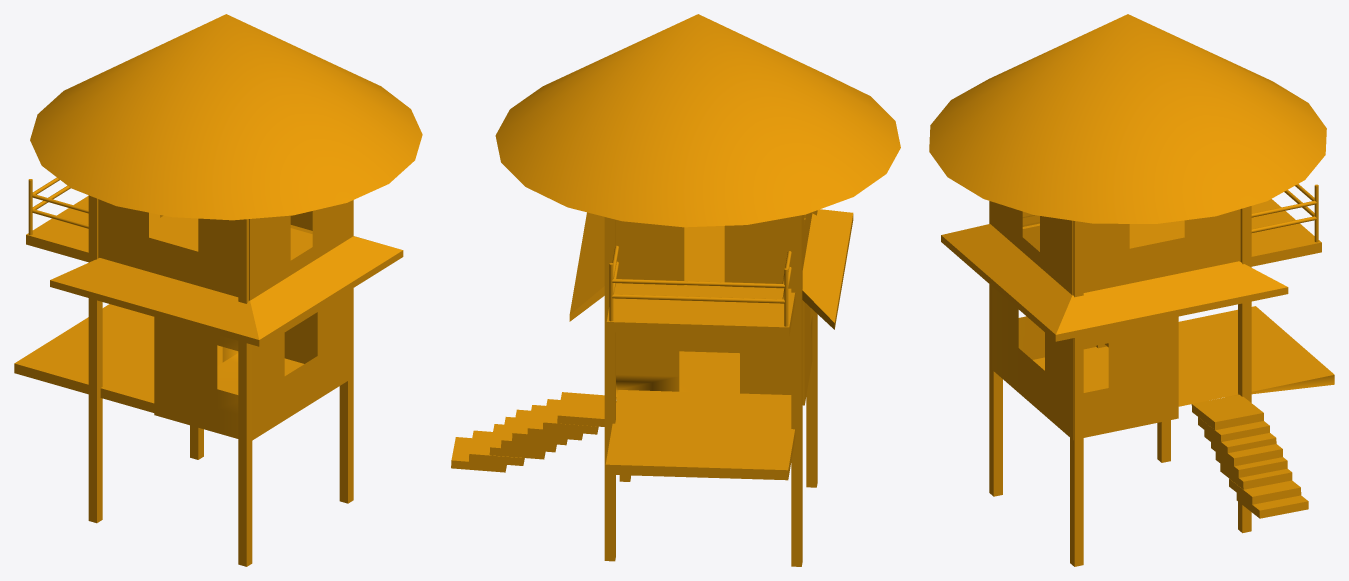
The model's file is shackie_shack04.fbx.
3 views of the same model, side by side, from view 1: azimuth 30°, elevation 25°; view 2: azimuth 150°, elevation 25°; view 3: azimuth 270°, elevation 25° (orthographic). The views are drawn at different scales.
Visible parts, largest first — view 1: pCube10; view 2: pCube10; view 3: pCube10.
Boxes of the visible parts, x1,y1,x2,y2 form: pCube10: (14, 14, 422, 566); pCube10: (451, 14, 900, 566); pCube10: (929, 14, 1334, 566).
Size of the model in its own units: 7.39 by 10.25 by 7.5.
